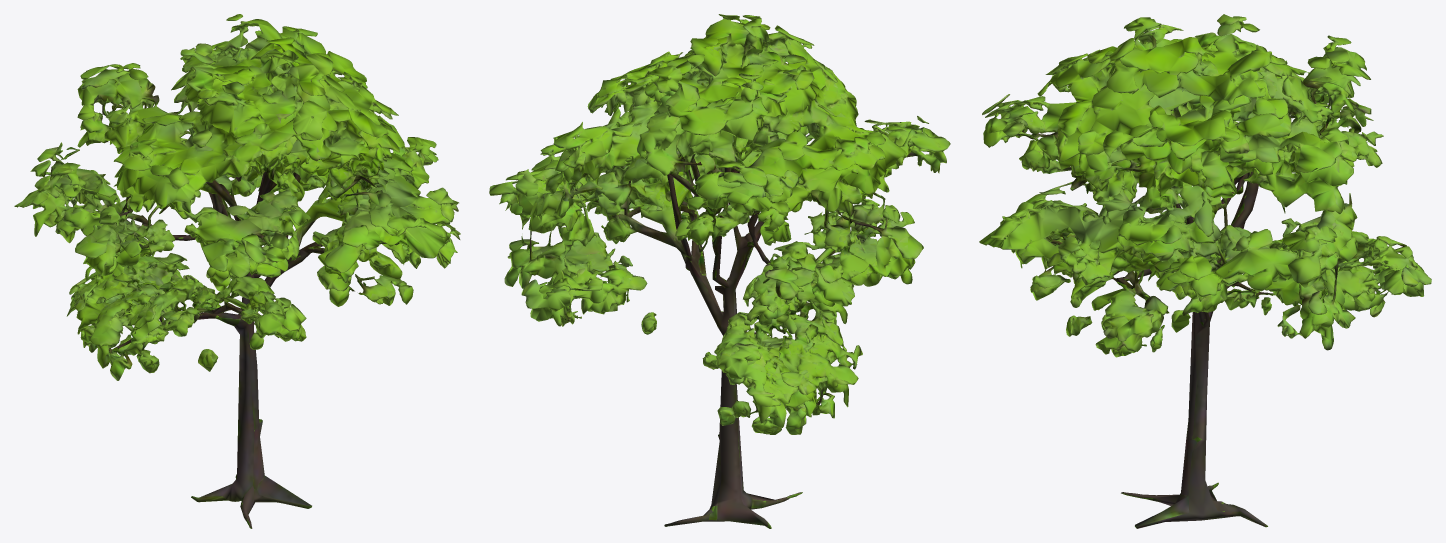
File: cercis-canadensis.glb
The picture shows the model from 3 angles, left to right: view 1: azimuth 30°, elevation 25°; view 2: azimuth 150°, elevation 25°; view 3: azimuth 270°, elevation 25°; orthographic projection. The views are drawn at different scales.
Size of the model in its own units: 1.65 by 1.99 by 1.65.
Materials: 1 (1 with a texture image).
